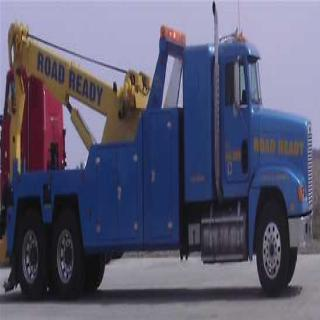Towing_truck: (2, 7, 313, 298)
